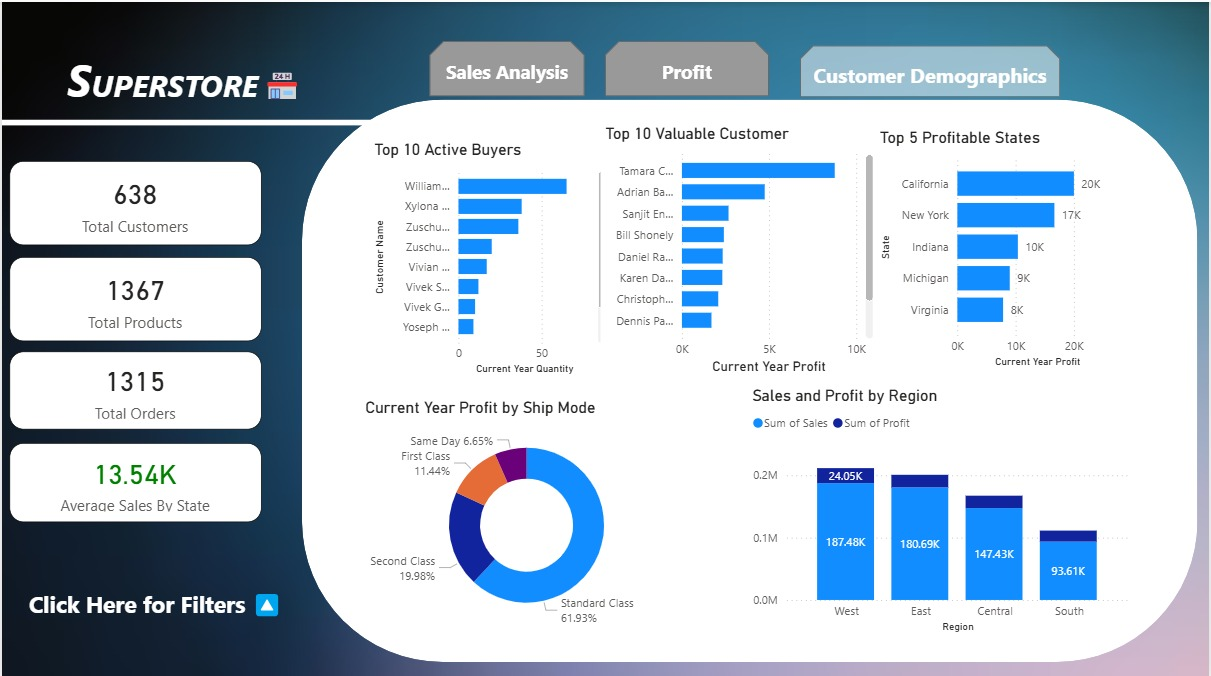

The page's visual inventory and layout, read from the dashboard file:
{"tool":"powerbi","page":{"name":"Customer Demographics","canvas":[1280,720],"ordinal":2},"visuals":[{"type":"textbox","box":[0,42.9,388.1,74.8],"z":0},{"type":"clusteredBarChart","title":"Top 10 Active Buyers","fields":{"Category":["orders.Customer Name"],"Y":["orders.Current Year Quantity"]},"box":[389.3,145.5,251,241.3],"z":0,"group":"g2"},{"type":"card","fields":{"Values":["orders.Total Customers"]},"box":[8,168.6,267.2,89.1],"z":0,"group":"g1"},{"type":"shape","box":[0,124.7,417.6,7.6],"z":1000},{"type":"card","fields":{"Values":["orders.Total Products"]},"box":[8,270.4,267.2,89.1],"z":1000,"group":"g1"},{"type":"donutChart","fields":{"Y":["orders.Current Year Profit"],"Category":["orders.Ship Mode"]},"box":[380.3,405.3,345.8,238.1],"z":1000,"group":"g2"},{"type":"card","fields":{"Values":["Avg(orders.Sales)"]},"box":[8,370.6,267.2,82.7],"z":2000,"group":"g1"},{"type":"shape","box":[317.5,103.9,961.9,616.1],"z":3000},{"type":"card","fields":{"Values":["orders.Average Sales By State"]},"box":[8,467.6,267.2,84.3],"z":3000,"group":"g1"},{"type":"shape","box":[453.5,41.6,164.4,58.6],"z":5000},{"type":"shape","box":[638.7,41.6,173.9,58.6],"z":6000},{"type":"shape","box":[846.6,45.4,275.9,54.8],"z":7000},{"type":"shape","title":"Filter Shape","box":[8.2,564.1,310.1,146.8],"z":8000},{"type":"group","id":"g1","title":"Group 3","box":[8,168.6,267.2,383.3],"z":9000},{"type":"group","id":"g2","title":"Group 1","box":[380.3,128.5,806,518.7],"z":9001},{"type":"clusteredBarChart","title":"Top 10 Valuable Customer","fields":{"Category":["orders.Customer Name"],"Y":["orders.Current Year Profit"]},"box":[631.2,128.5,289.1,257],"z":10000,"group":"g2"},{"type":"clusteredBarChart","title":"Top 5 Profitable States","fields":{"Category":["orders.State"],"Y":["orders.Current Year Profit"]},"box":[916.5,133.2,268.3,245.7],"z":11000,"group":"g2"},{"type":"columnChart","title":"Sales and Profit by Region","fields":{"Category":["orders.Region"],"Y":["Sum(orders.Sales)","Sum(orders.Profit)"]},"box":[783.7,394,402.5,253.2],"z":12000,"group":"g2"}]}

Visuals, with their boxes in screenshot pixels (x1, y1, x2, y2), scaled from the page's 1280x720 canvas onto the 1211x676 screenshot:
textbox: 0:40:367:111
"Top 10 Active Buyers" clusteredBarChart: 368:137:606:363
card - orders.Total Customers: 8:158:260:242
shape: 0:117:395:124
card - orders.Total Products: 8:254:260:338
donutChart - orders.Current Year Profit x orders.Ship Mode: 360:381:687:604
card - Avg(orders.Sales): 8:348:260:426
shape: 300:98:1210:675
card - orders.Average Sales By State: 8:439:260:518
shape: 429:39:585:94
shape: 604:39:769:94
shape: 801:43:1062:94
"Filter Shape" shape: 8:530:301:667
"Group 3" group: 8:158:260:518
"Group 1" group: 360:121:1122:608
"Top 10 Valuable Customer" clusteredBarChart: 597:121:871:362
"Top 5 Profitable States" clusteredBarChart: 867:125:1121:356
"Sales and Profit by Region" columnChart: 741:370:1122:608
